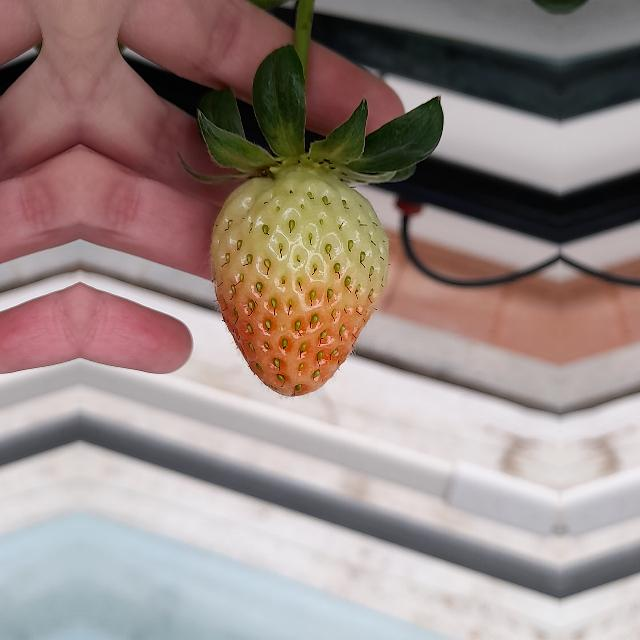Health_50: (210, 160, 388, 396)
